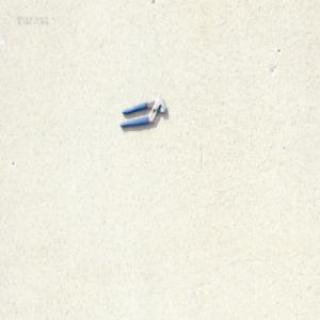Pliertrack_idkeyframe: (118, 95, 167, 128)
